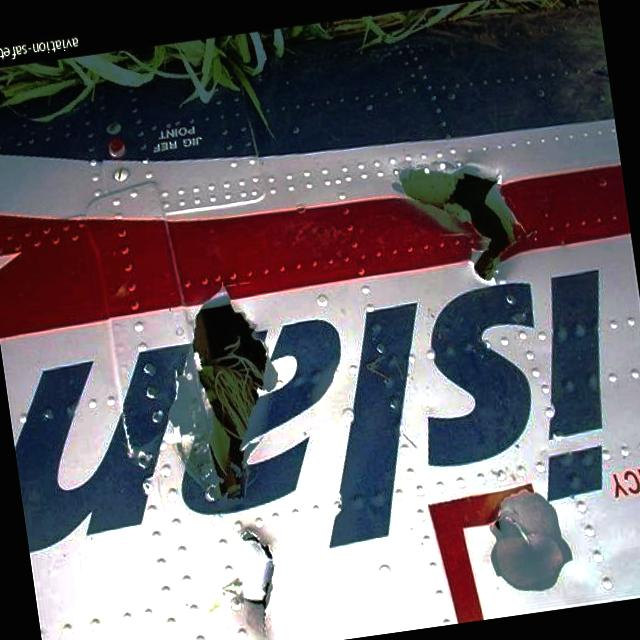crack: (174, 282, 288, 511), (397, 147, 530, 296), (213, 514, 289, 640), (487, 504, 531, 553)
